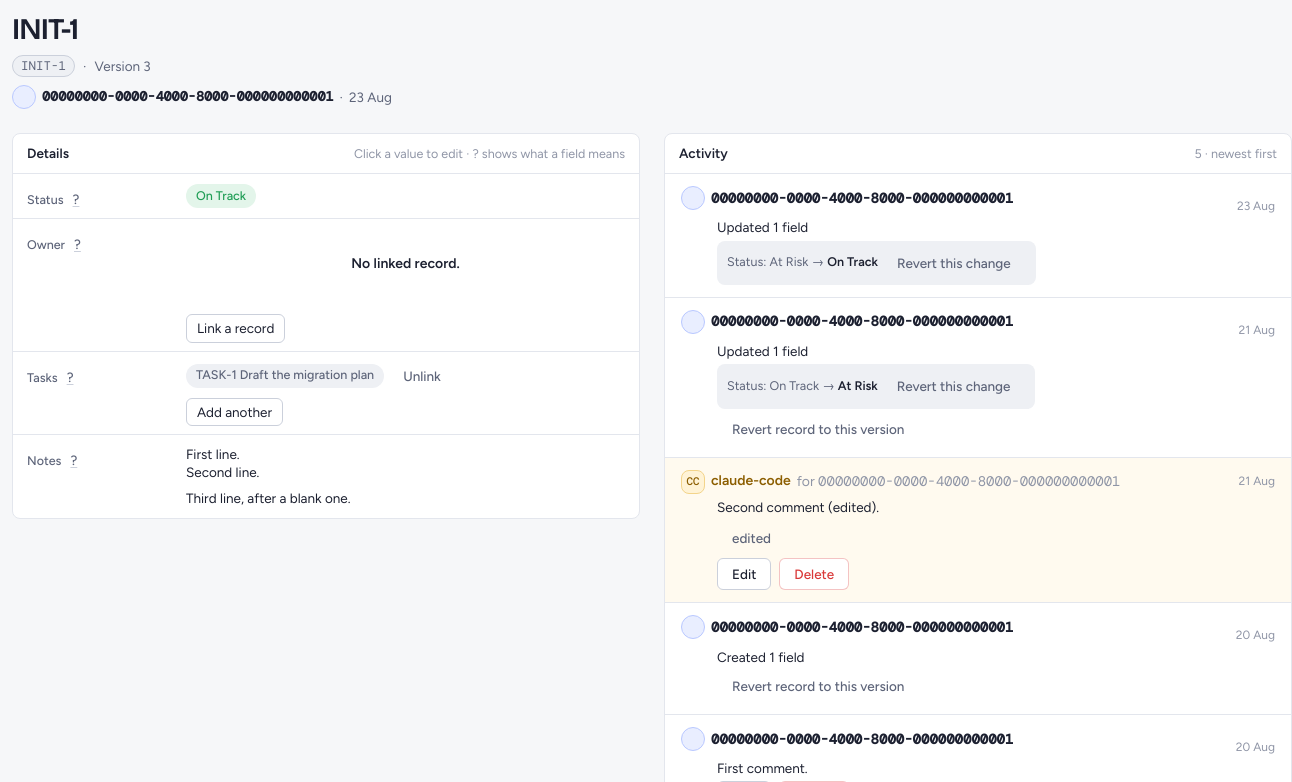
Test: RecordDetailView › editing through the write path › cancels an edit without writing anything
Expected: the heading "INIT-1" is shown, [12,11,78,47]
Click the button with aria-label "Edit Status" at (221, 196), box [173,182,625,210]
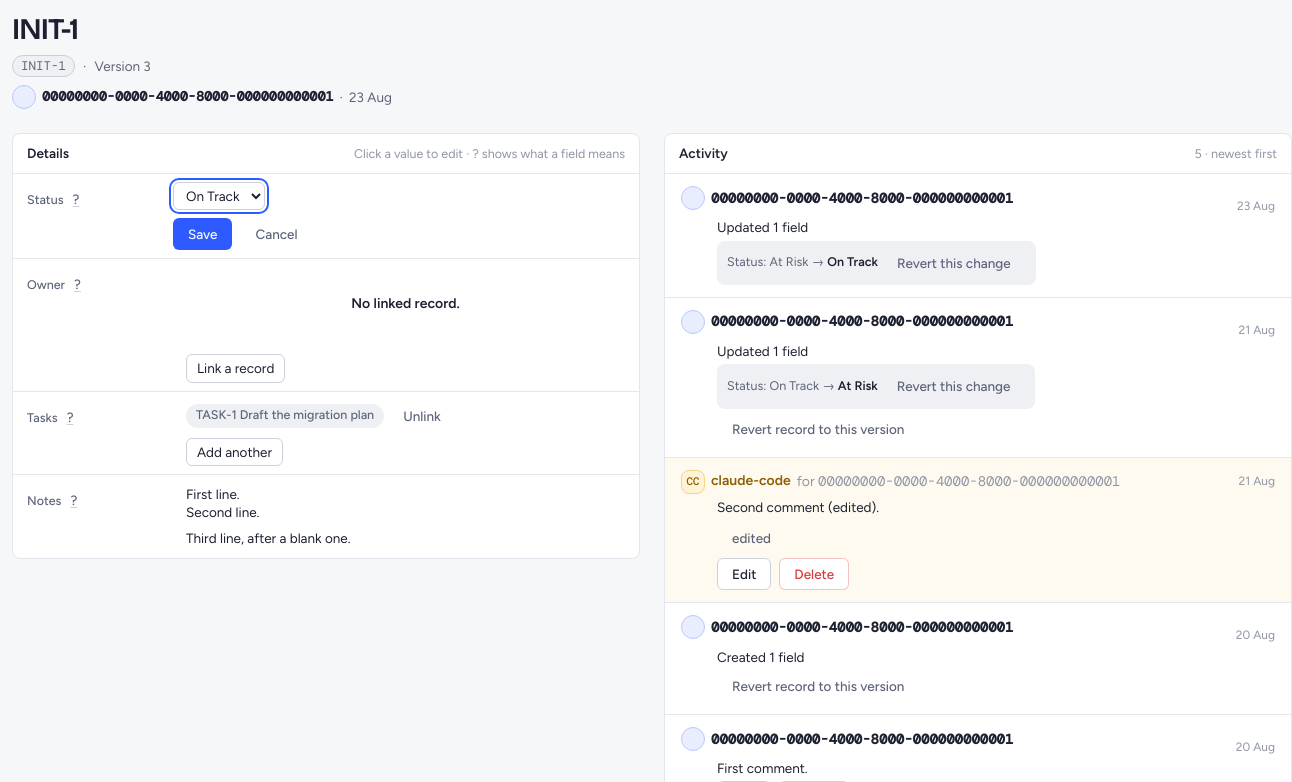
Select "At Risk" in the dropdown named "Status value for INIT-1" at (219, 196), box [173,182,265,210]
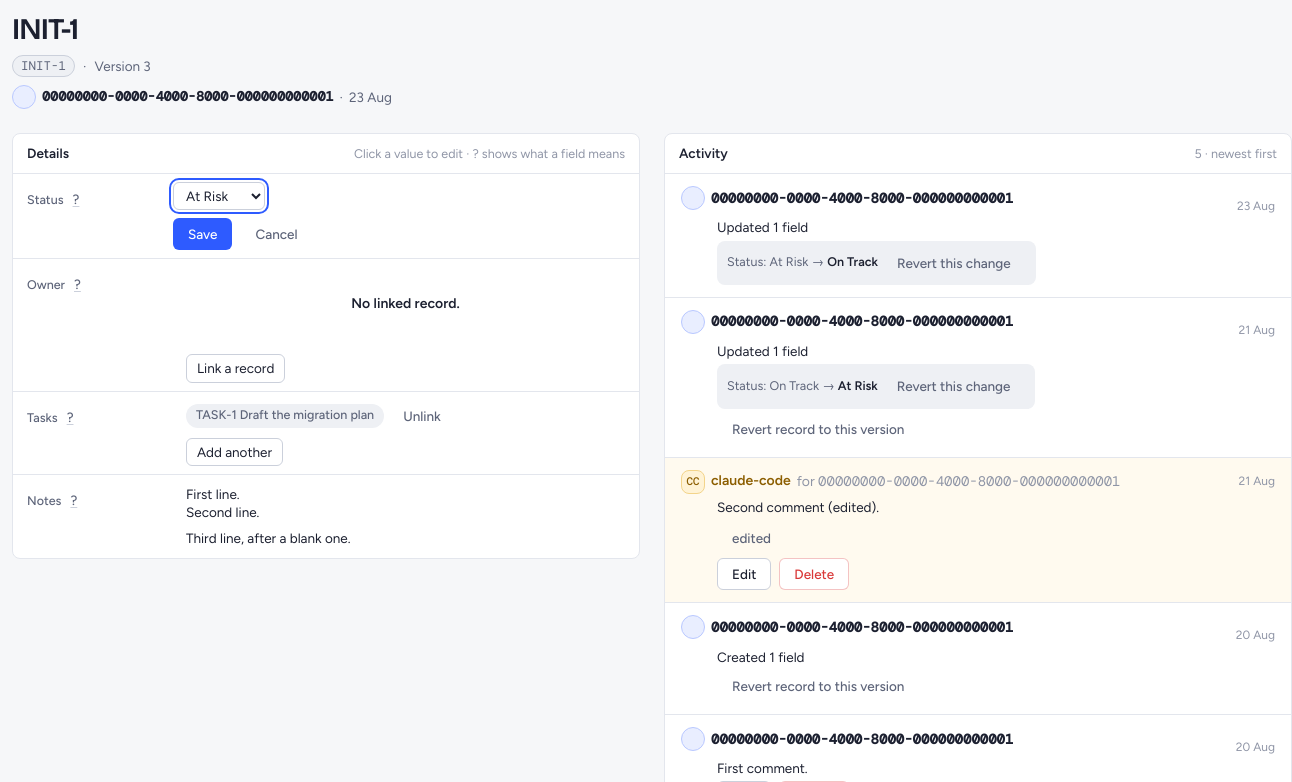
Click the button "Cancel" at (277, 234), box [240,218,313,250]
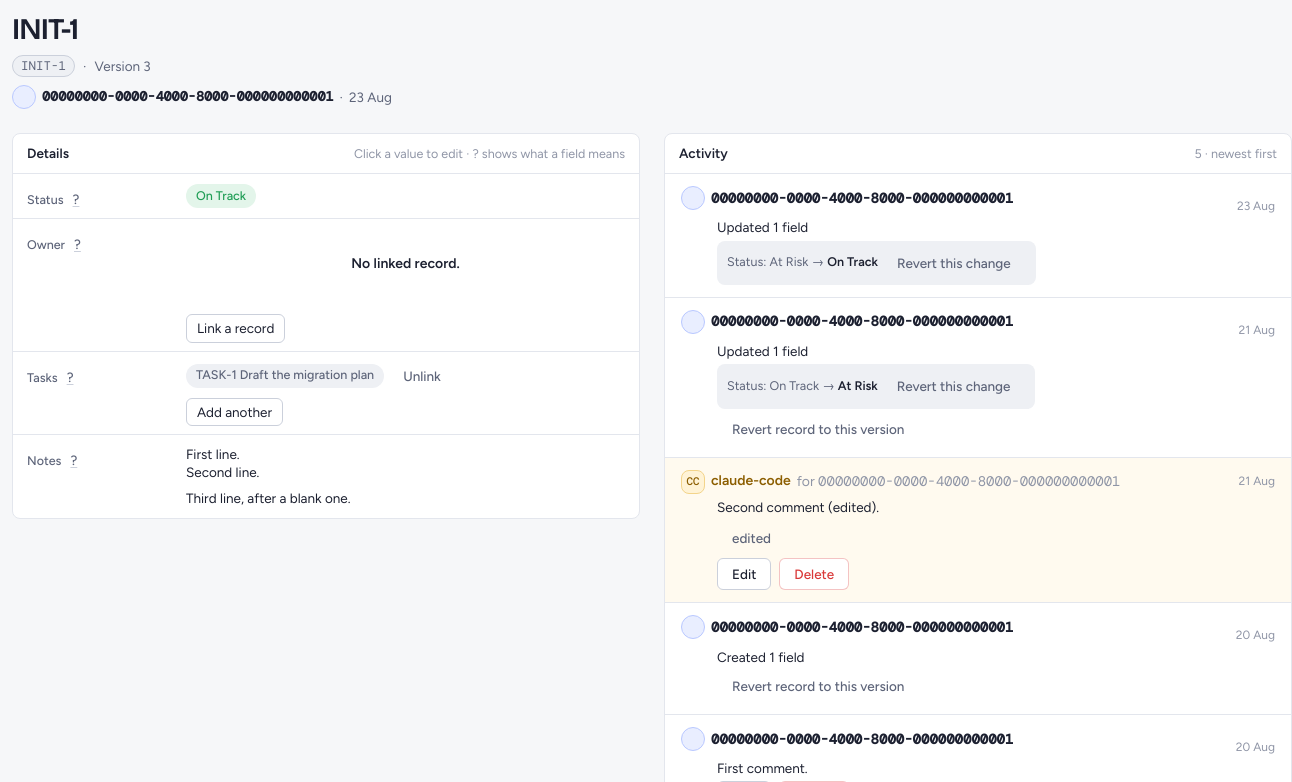
Result: the text "On Track" below "Details" is shown at [196,188,246,203]
